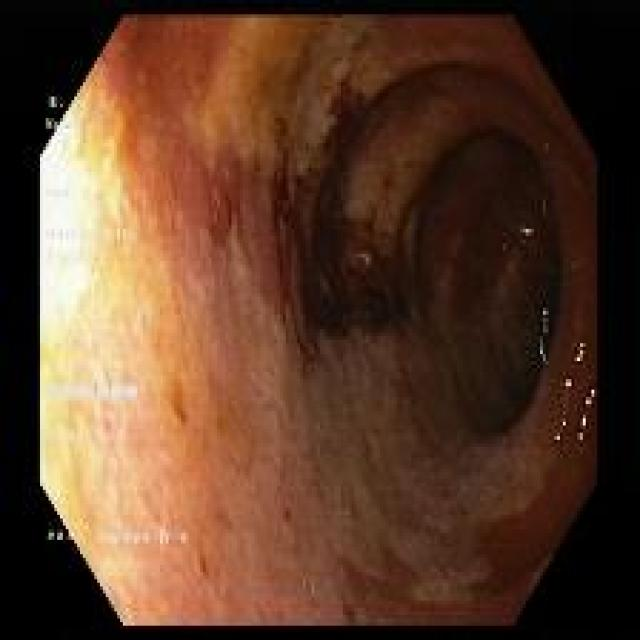ulcerative-colitis: (40, 19, 599, 624)
